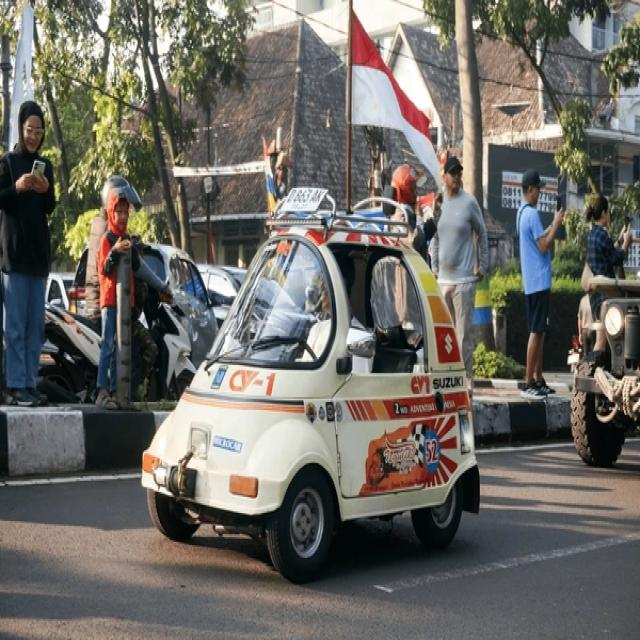suzuki: (441, 327, 457, 361)
